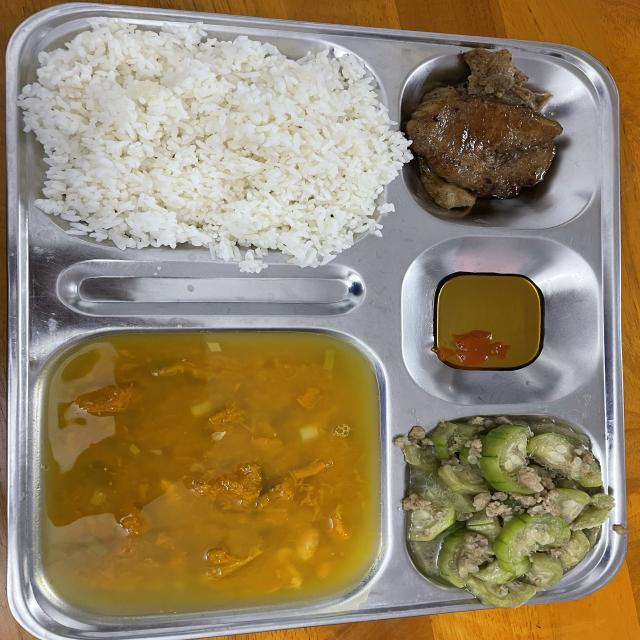com_trang: (56, 42, 366, 227)
